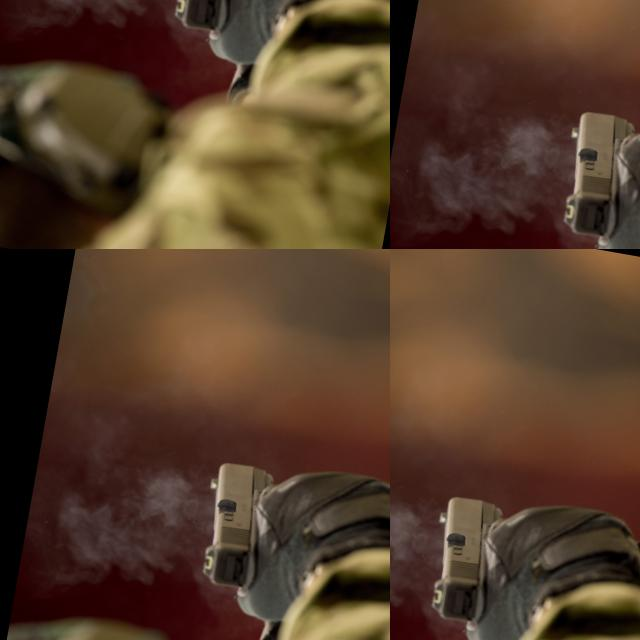handgun: (86, 447, 252, 583), (416, 486, 511, 630), (48, 0, 112, 44), (530, 217, 566, 249)
